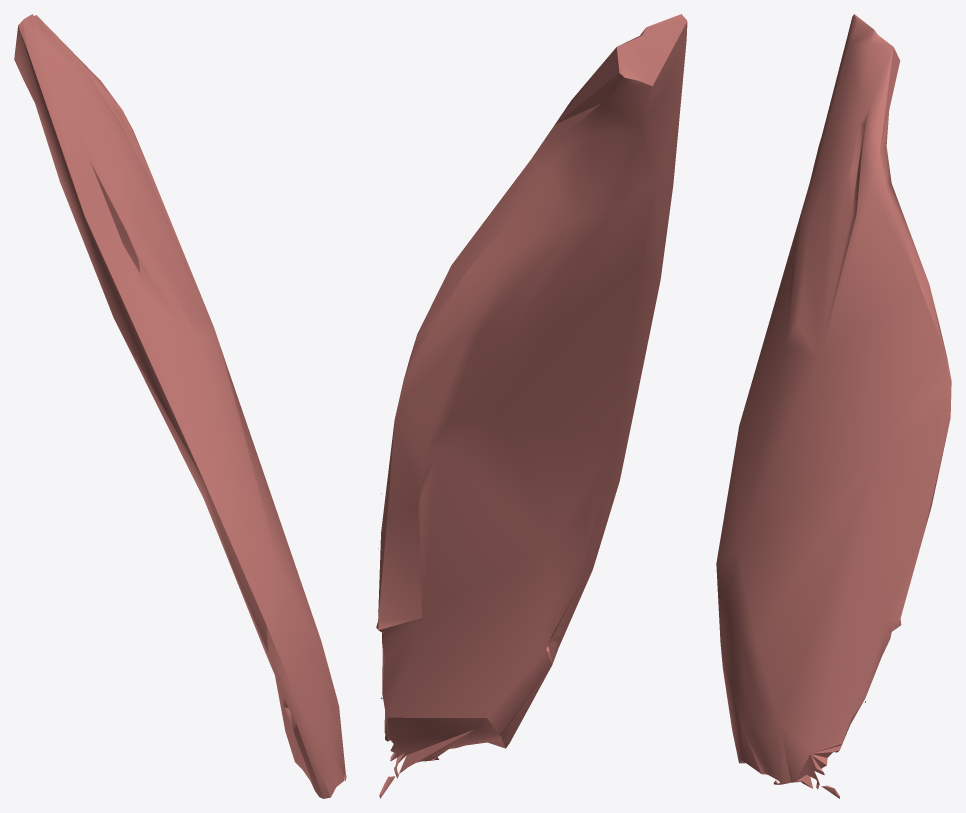
File: fma37400_fj1482.glb
3 renders of one model, left to right at view 1: azimuth 30°, elevation 25°; view 2: azimuth 150°, elevation 25°; view 3: azimuth 270°, elevation 25°, orthographic. The views are drawn at different scales.
Parts seen in each view (by area): view 1: FMA37400_FJ1482; view 2: FMA37400_FJ1482; view 3: FMA37400_FJ1482.
Part boxes in pixels (box(x1,y1,x2,y2)): FMA37400_FJ1482: box(14, 14, 346, 798); FMA37400_FJ1482: box(376, 14, 687, 798); FMA37400_FJ1482: box(716, 14, 951, 798).
Bounding box in the file's own units: 0.018 × 0.0468 × 0.0149.
